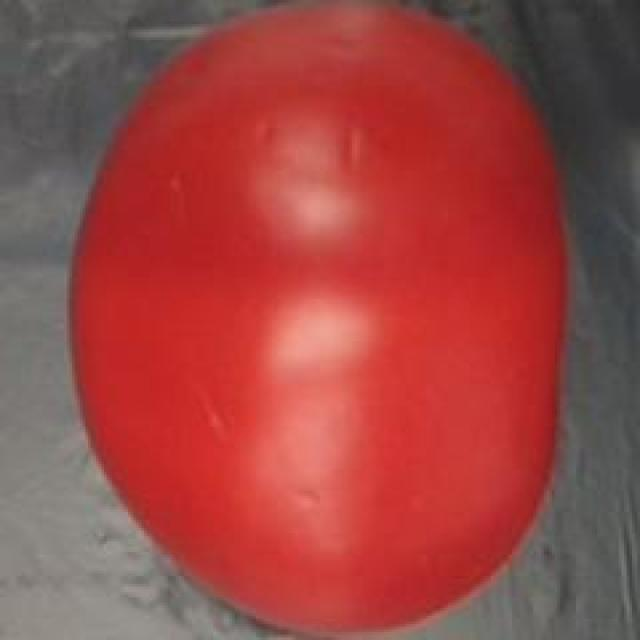ripe tomato: (61, 0, 576, 640)
